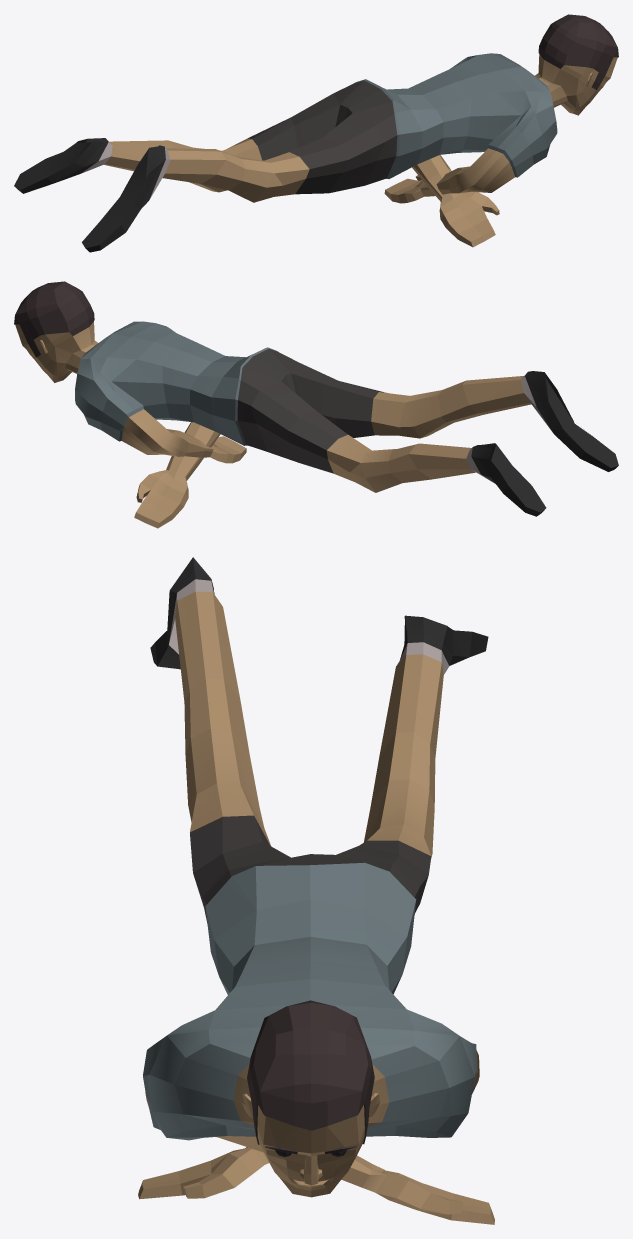
The model's file is diver.glb.
3 renders of one model, top to bottom at view 1: azimuth 30°, elevation 25°; view 2: azimuth 150°, elevation 25°; view 3: azimuth 270°, elevation 25°, orthographic. The views are drawn at different scales.
Visible parts, largest first — view 1: Skin, Shirt, Pants, Eyes, Hair, Socks; view 2: Skin, Shirt, Pants, Eyes, Hair, Socks; view 3: Shirt, Skin, Hair, Pants, Eyes, Socks.
Part boxes in pixels (<box>): Skin: <box>104,54,617,247</box>; Shirt: <box>354,53,557,178</box>; Pants: <box>247,80,397,194</box>; Eyes: <box>14,138,165,252</box>; Hair: <box>538,14,618,89</box>; Socks: <box>81,140,170,199</box>; Skin: <box>15,321,531,528</box>; Shirt: <box>75,321,278,445</box>; Pants: <box>237,348,383,473</box>; Eyes: <box>471,371,618,516</box>; Hair: <box>14,281,94,357</box>; Socks: <box>466,373,552,483</box>; Shirt: <box>143,862,477,1140</box>; Skin: <box>138,591,494,1224</box>; Hair: <box>247,1000,374,1153</box>; Pants: <box>190,815,431,922</box>; Eyes: <box>150,557,488,1157</box>; Socks: <box>169,579,449,674</box>.
Size of the model in its own units: 1.89 by 0.5694 by 0.521.
